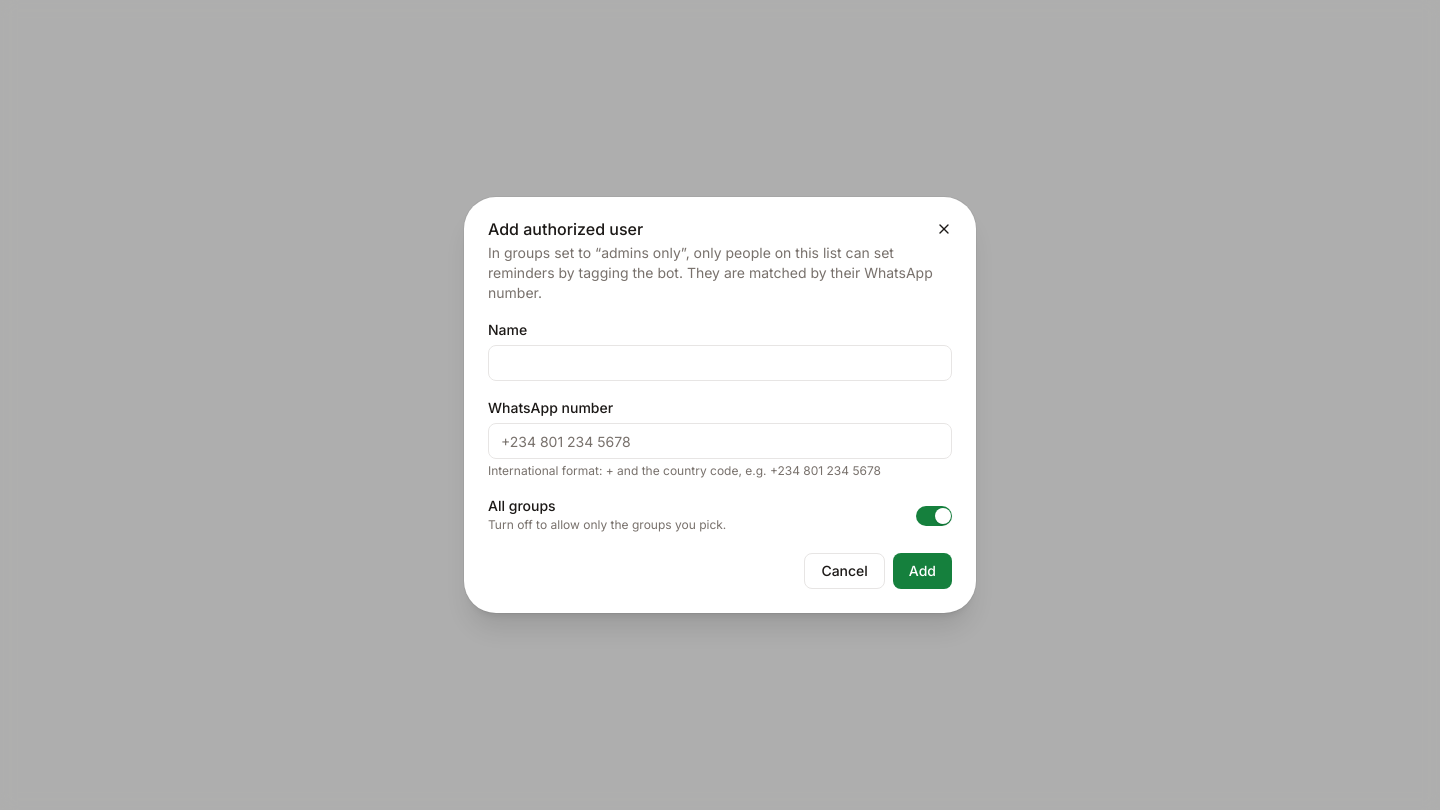
AuthorizedUserDialog › shows a duplicate number from the server
Type "Tunde" into the field labelled "Name" at (720, 363), box [488,345,952,381]
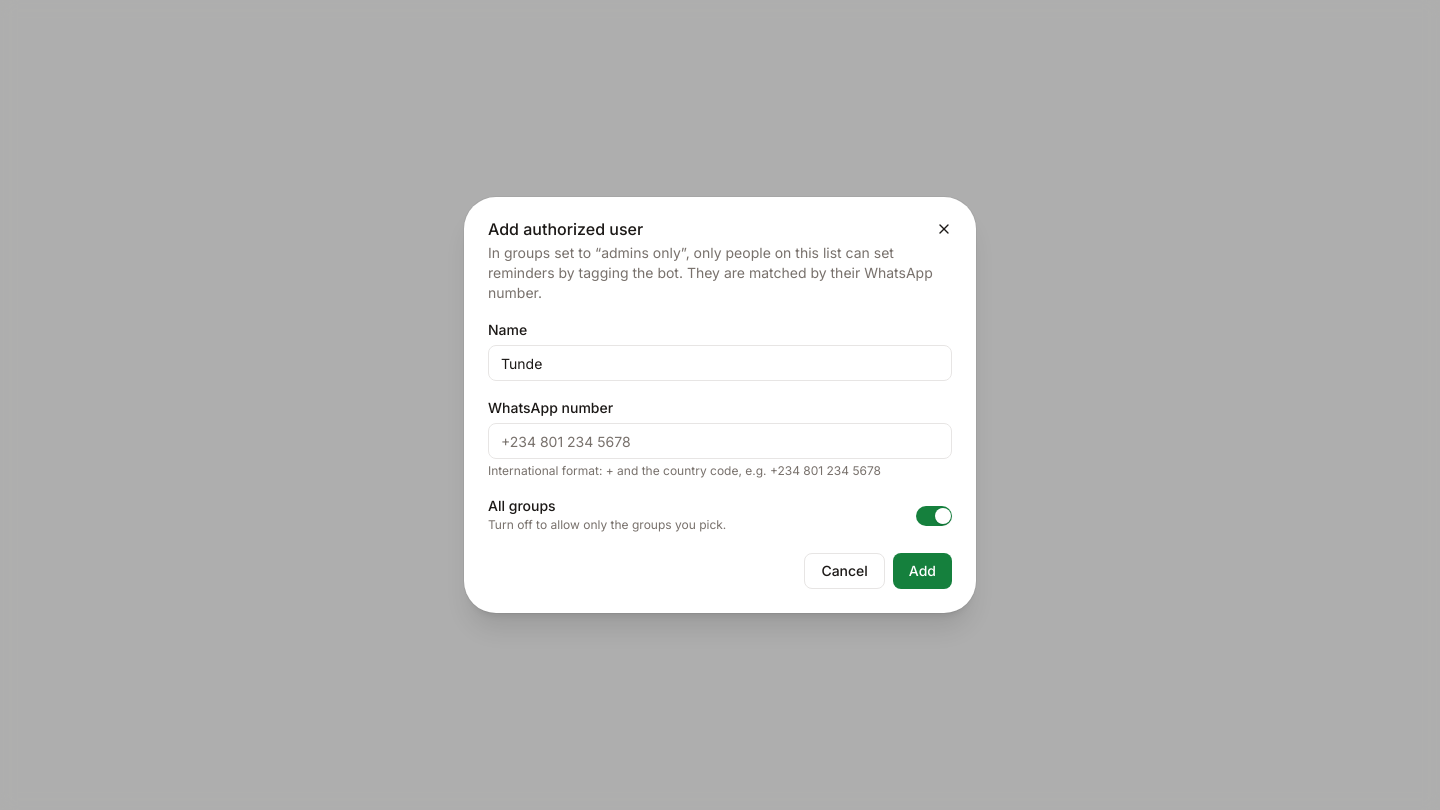
Type "+2348012345678" into the field labelled "WhatsApp number" at (720, 441), box [488,423,952,459]
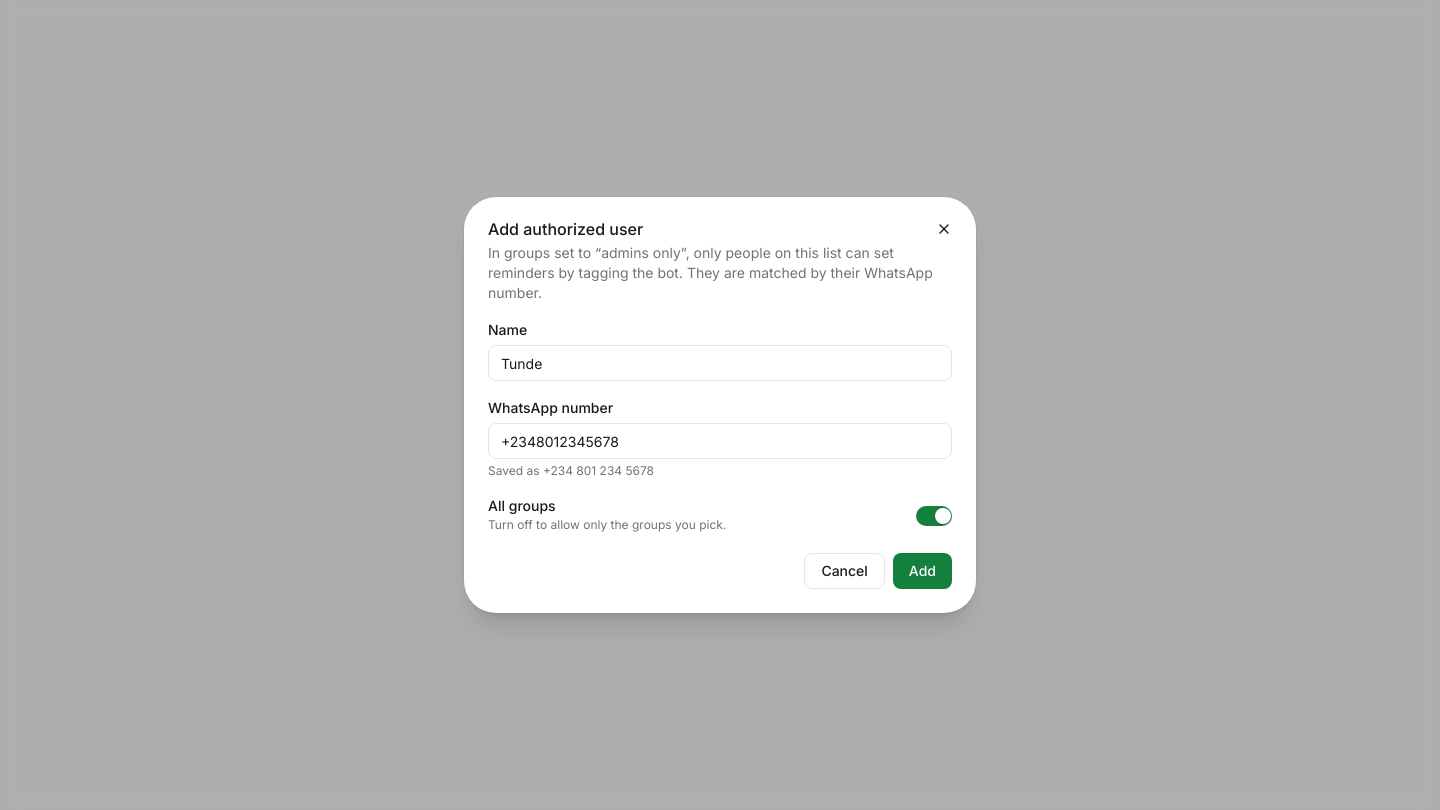
Click the button "Add" at (922, 571), box [893,553,952,589]
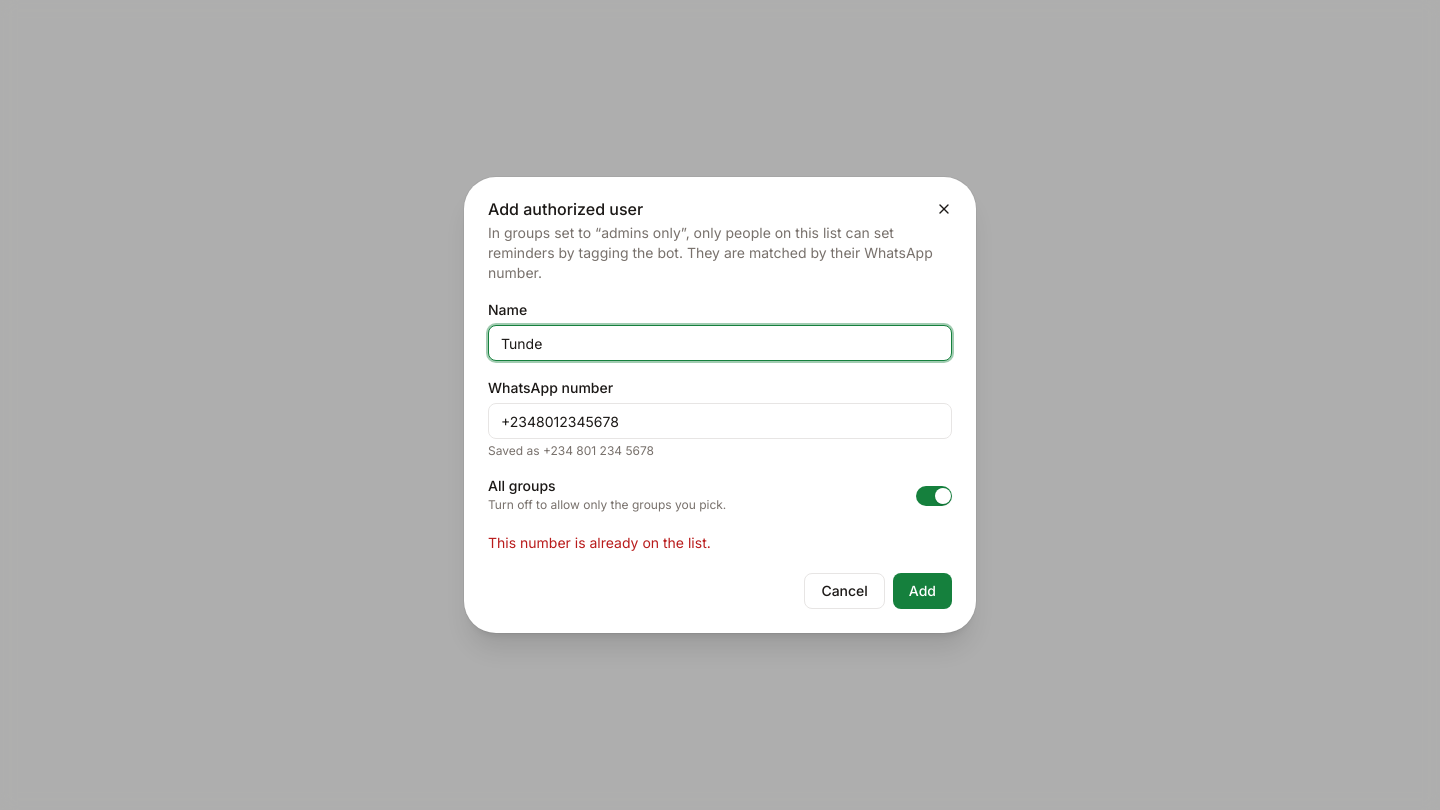
Now the text "This number is already on the list." is shown, box [488,534,711,551]
